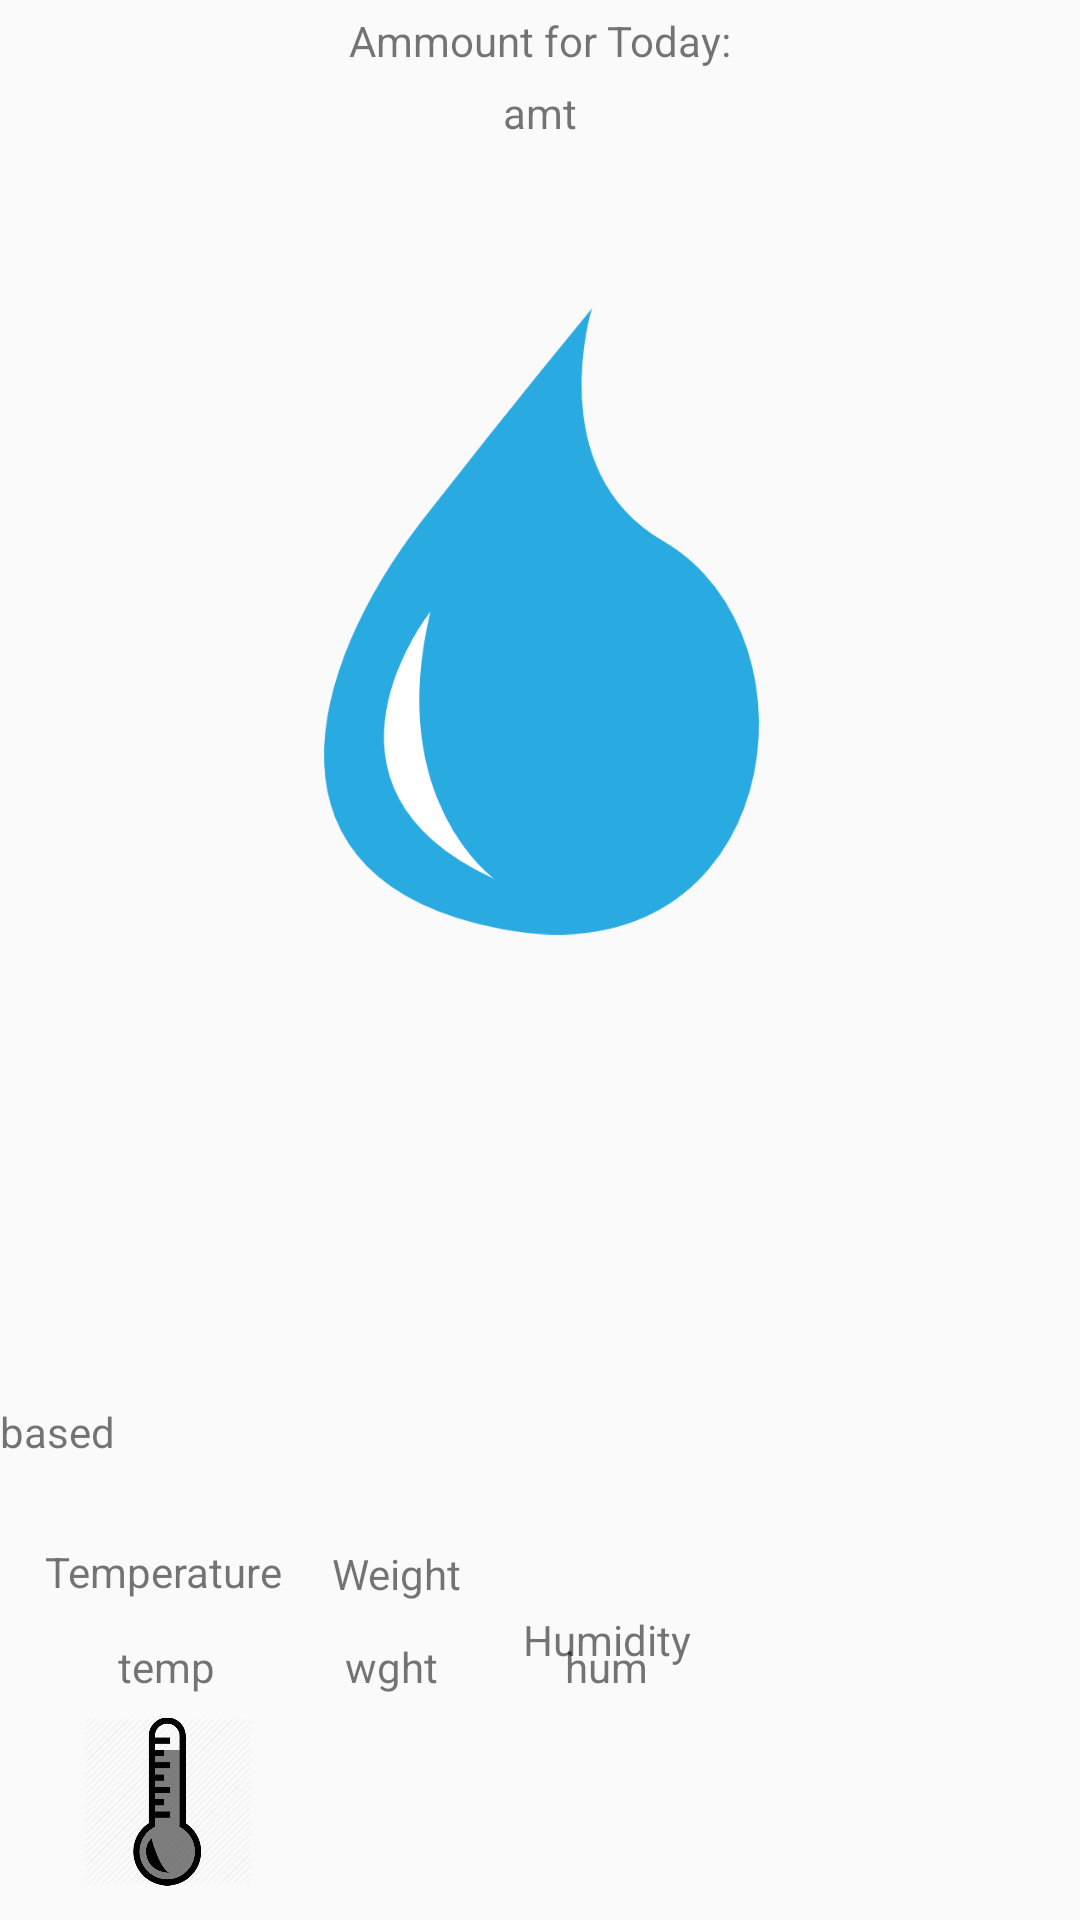

Named icons in this screenshot (1080x1920) and their centers, [x,y]:
thermometer: [167,1802]
